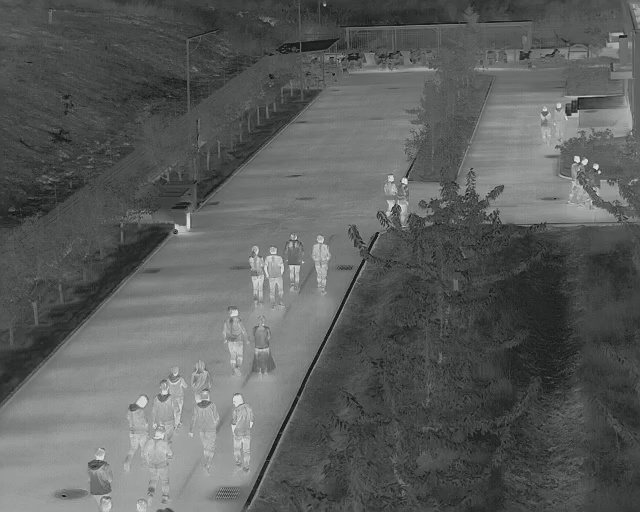person: (197, 391, 219, 475), (125, 394, 149, 470), (87, 447, 114, 512), (230, 395, 252, 472), (225, 307, 248, 375), (150, 428, 170, 502), (253, 316, 276, 378), (153, 379, 180, 430), (265, 247, 283, 309), (285, 232, 303, 291), (246, 246, 263, 308), (313, 236, 330, 295), (165, 366, 188, 407), (191, 359, 214, 393), (382, 172, 397, 218), (397, 176, 410, 227), (567, 155, 580, 203), (538, 105, 550, 145), (589, 161, 602, 194), (555, 101, 563, 145), (579, 156, 588, 176)
